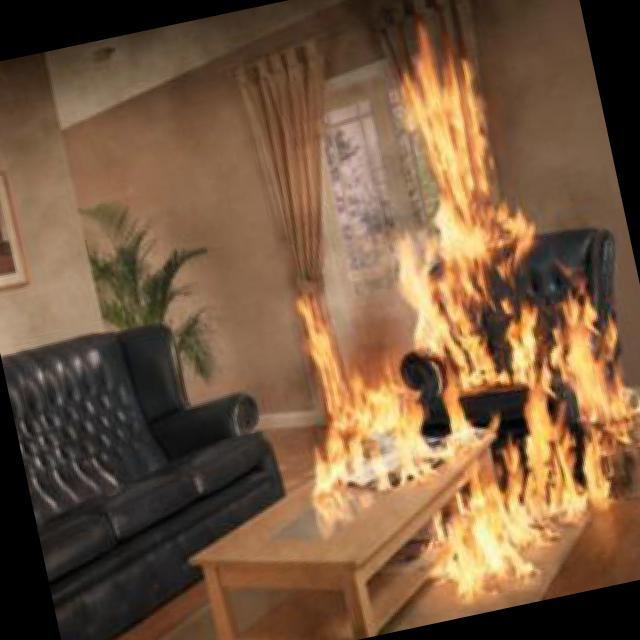Fire: (267, 181, 640, 617), (380, 10, 518, 222)
